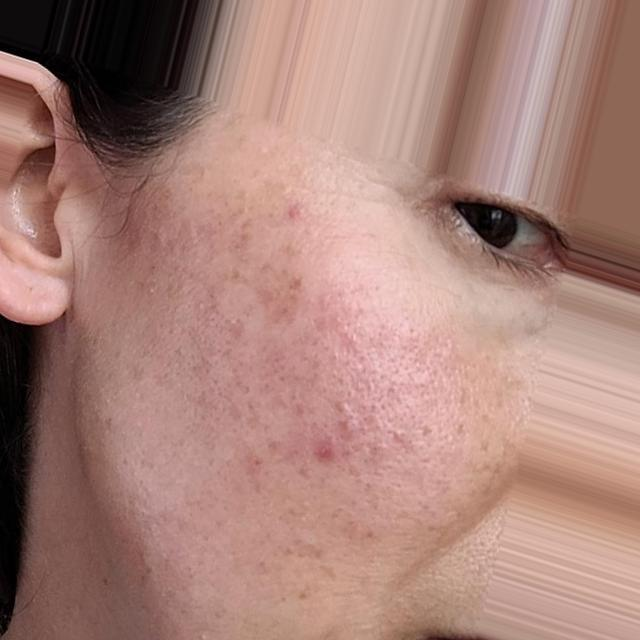Rosacea: (123, 200, 384, 485)
